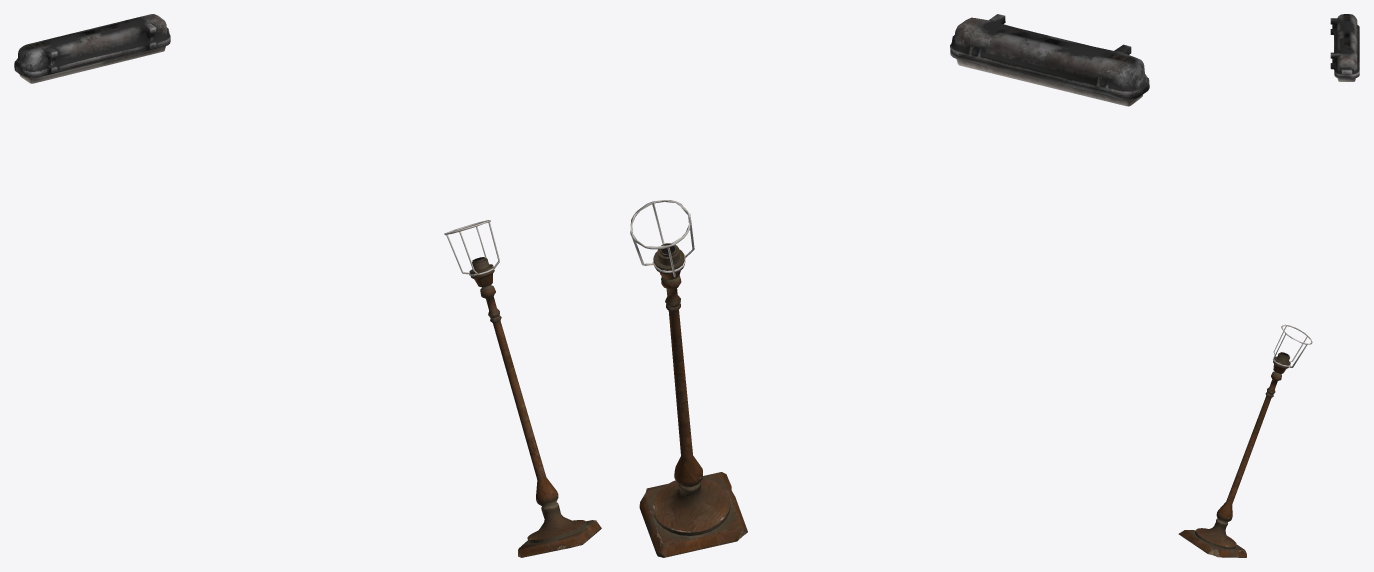
Rendered from rentable_shop_e lighting.glb.
The picture shows the model from 3 angles, left to right: view 1: azimuth 30°, elevation 25°; view 2: azimuth 150°, elevation 25°; view 3: azimuth 270°, elevation 25°; orthographic projection. The views are drawn at different scales.
Parts seen in each view (by area): view 1: mesh (plight ceiling), apartment_light_d2; view 2: apartment_light_d2, mesh (plight ceiling); view 3: apartment_light_d2, mesh (plight ceiling).
Boxes of the visible parts, left/top/right/bottom form: mesh (plight ceiling): left=14, top=14, right=170, bottom=83; apartment_light_d2: left=444, top=220, right=601, bottom=557; apartment_light_d2: left=630, top=200, right=747, bottom=557; mesh (plight ceiling): left=950, top=14, right=1149, bottom=106; apartment_light_d2: left=1178, top=324, right=1312, bottom=557; mesh (plight ceiling): left=1330, top=14, right=1359, bottom=81.
Size of the model in its own units: 2.72 by 2.94 by 1.24.
Materials: 2 (2 with a texture image).
